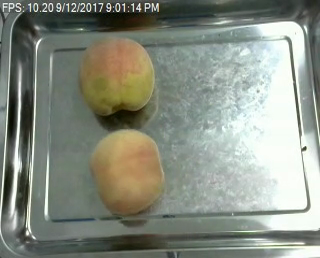Peach: (91, 128, 163, 214), (85, 41, 160, 121)
